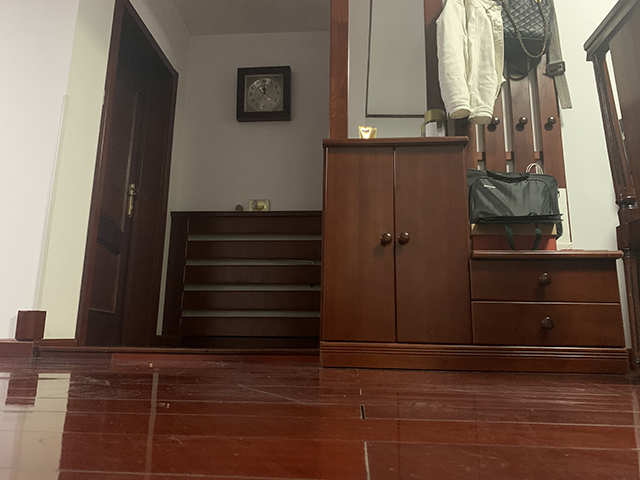cabinet: (317, 133, 632, 376)
